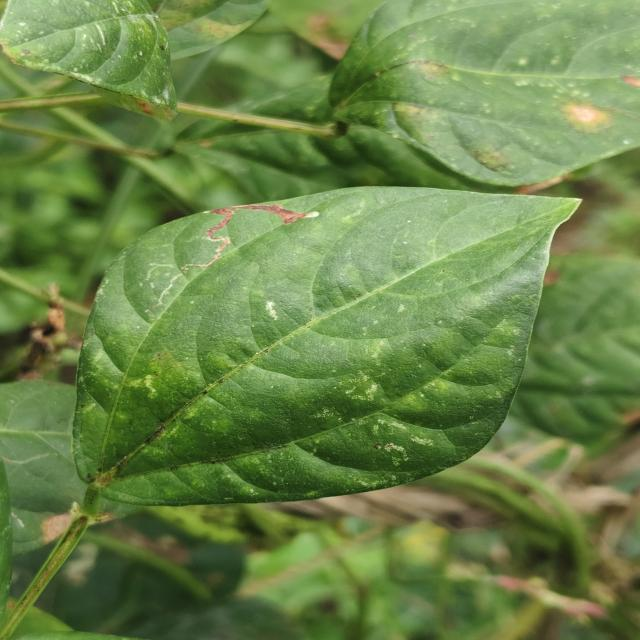sitaw-aphid-high: (73, 188, 577, 510), (346, 0, 640, 181), (0, 0, 267, 120)
